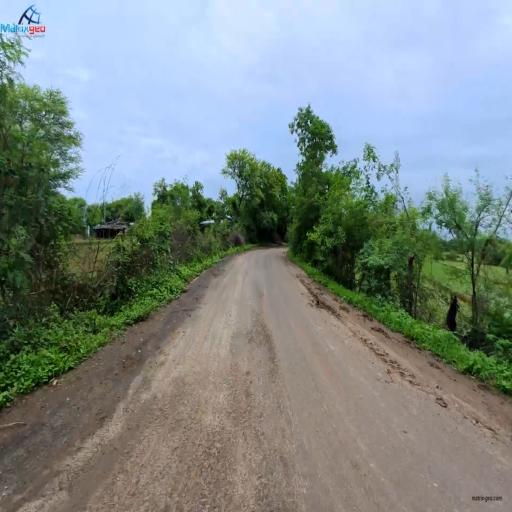ravelling: (130, 417, 278, 488)
